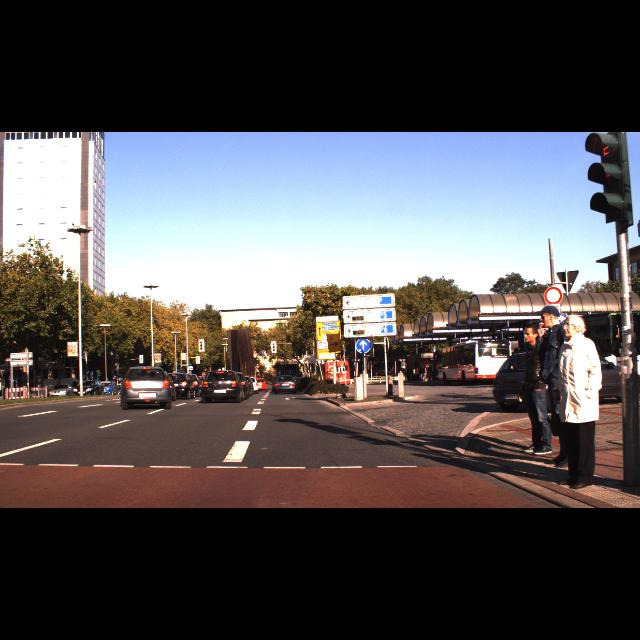mandatory: (356, 338, 370, 352)
prohibitory: (544, 287, 562, 305)
